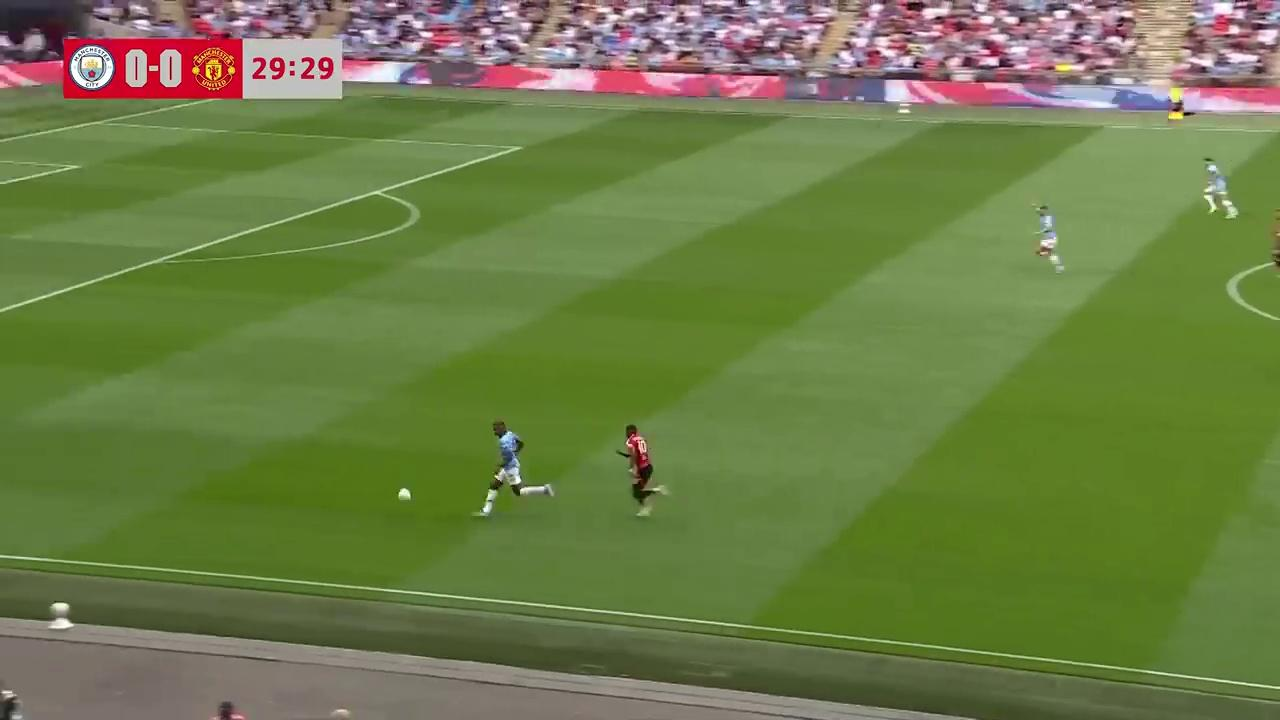ball: (395, 484, 412, 503)
player: (477, 419, 528, 514), (618, 423, 669, 516), (1032, 205, 1065, 272), (1202, 157, 1238, 218)
referee: (1165, 82, 1188, 126), (1270, 209, 1280, 274)
